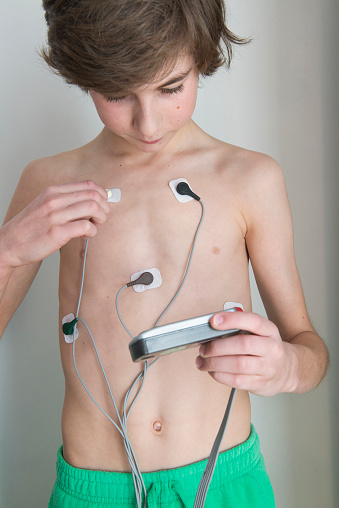em pe: (0, 0, 327, 420)
